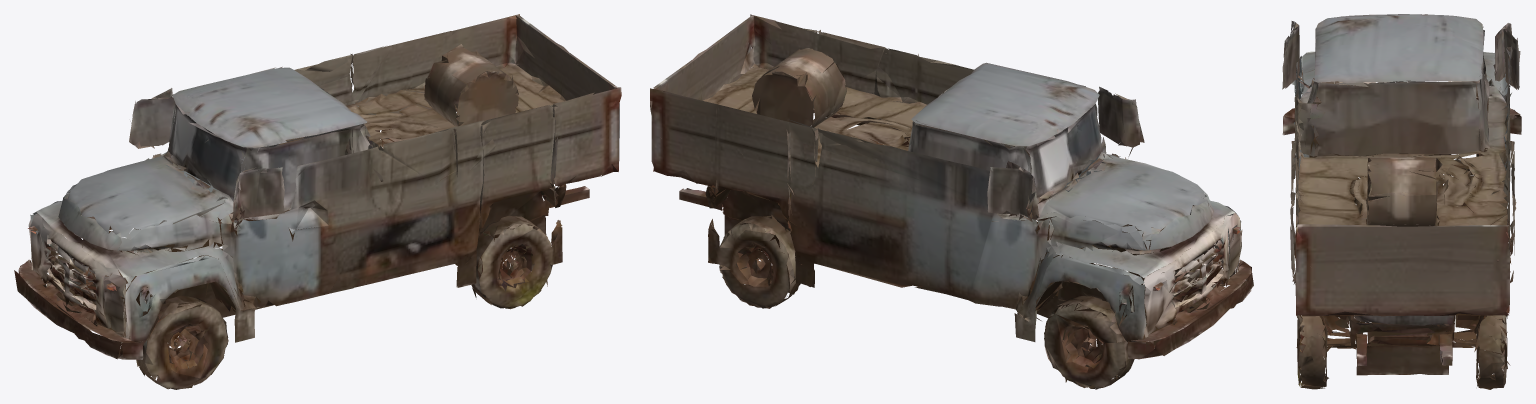
The model's file is container_zil_open.glb.
3 views of the same model, side by side, from view 1: azimuth 30°, elevation 25°; view 2: azimuth 150°, elevation 25°; view 3: azimuth 270°, elevation 25° (orthographic). The views are drawn at different scales.
Visible parts, largest first — view 1: container_zil_open; view 2: container_zil_open; view 3: container_zil_open.
Part boxes in pixels (x1=…): container_zil_open: x1=14, y1=14, x2=621, y2=389; container_zil_open: x1=650, y1=14, x2=1253, y2=389; container_zil_open: x1=1282, y1=14, x2=1521, y2=389.
Bounding box in the file's own units: 6.7 × 2.81 × 2.54.
1 material, 1 textured.
